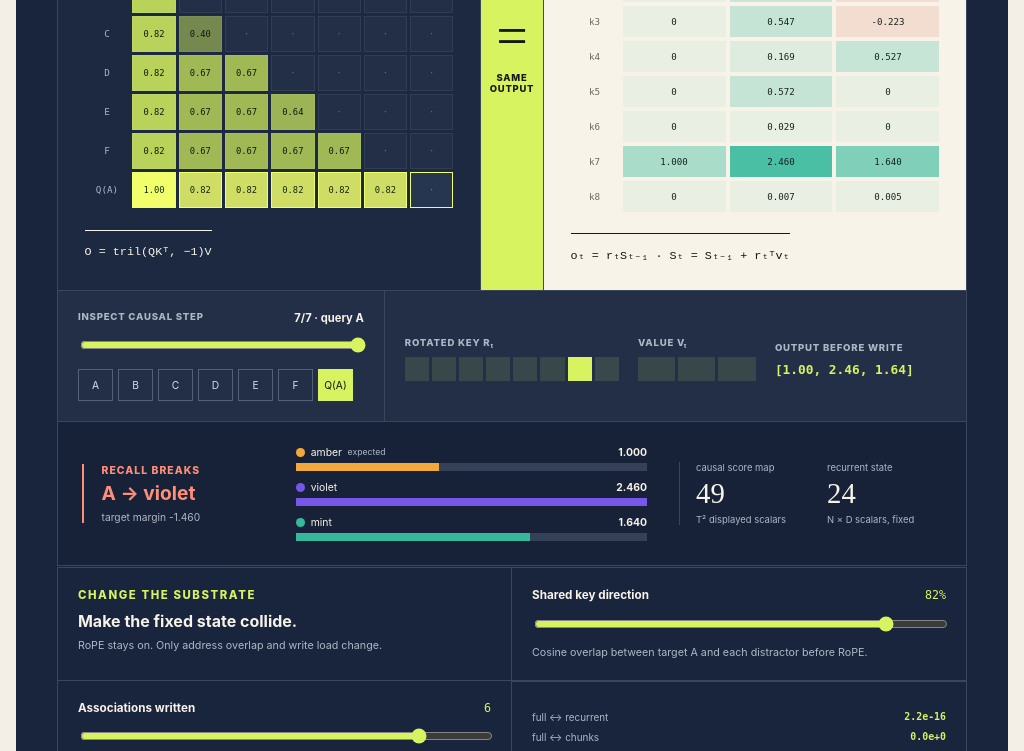
Scenario: BDH State Microscope learning journey › lets the reader inspect a pre-write token state
(page scrolled)
Click the button named "Inspect A → amber" at (96, 385), box [78,369,113,401]
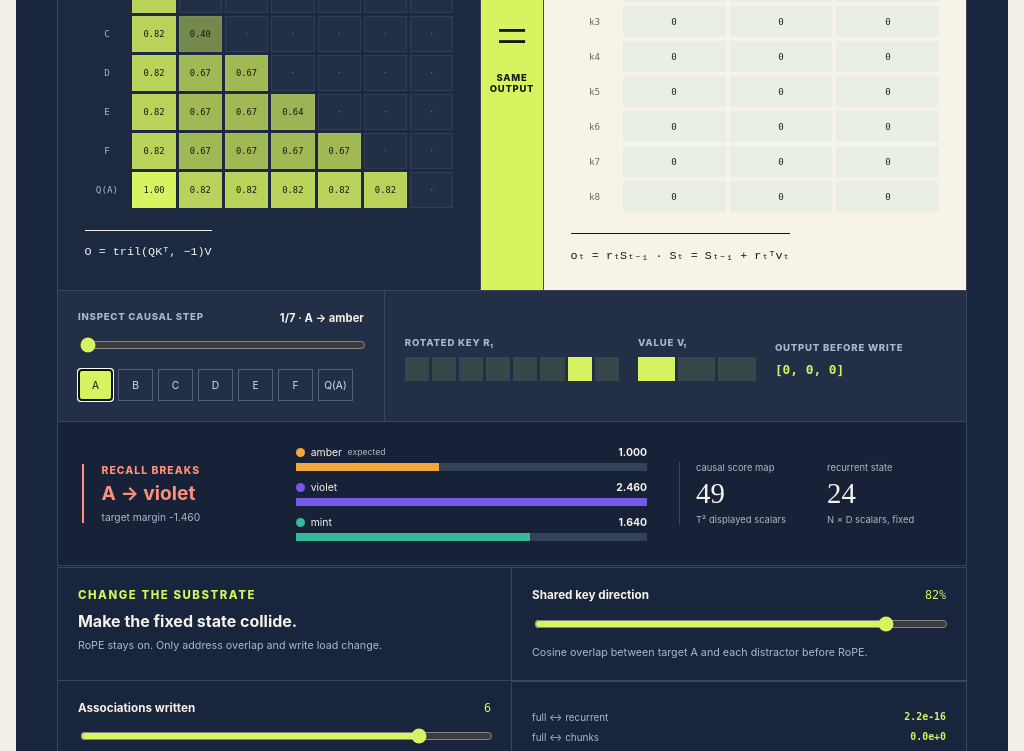
Expected: the text "[0, 0, 0]" is shown, [775,362,844,376]
Now the text "1/7 · A → amber" is shown, box [280,311,364,325]
